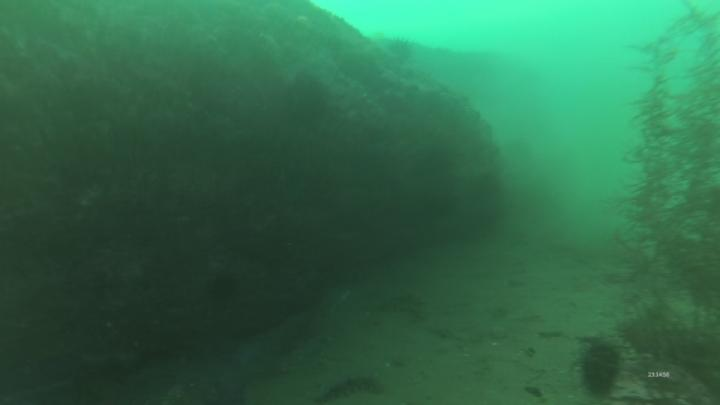echinus: (569, 335, 625, 402)
holothurian: (312, 374, 387, 404), (379, 291, 429, 323)
waterweeds: (623, 9, 720, 364)
